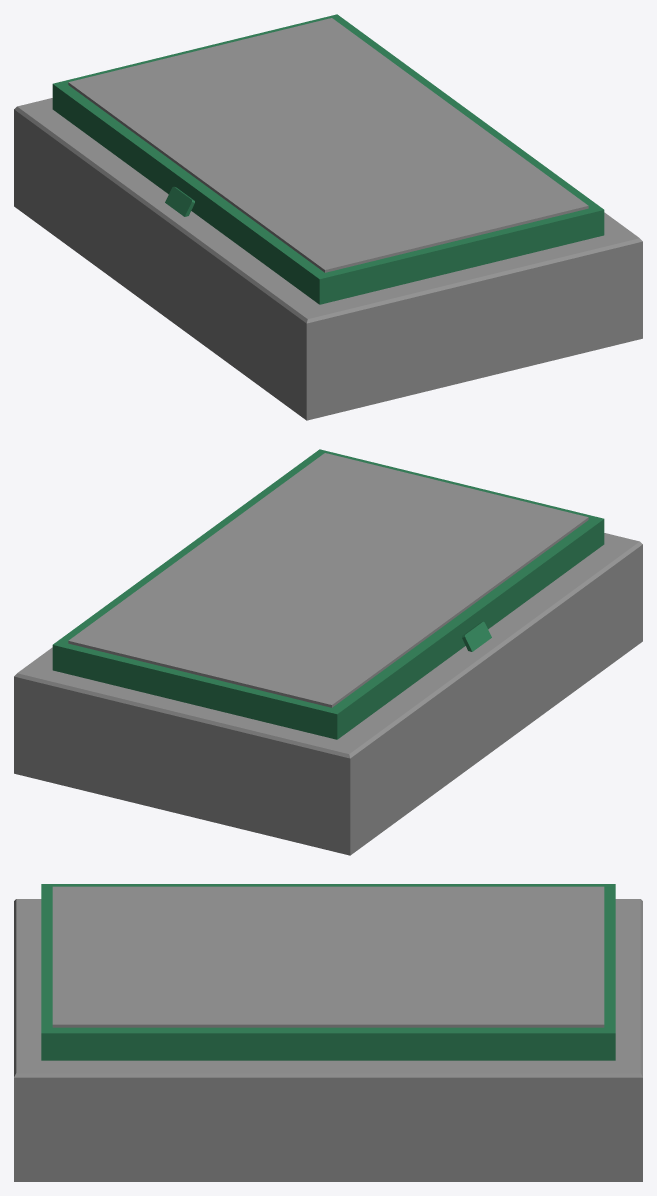
The model's file is Stand2.FBX.
The picture shows the model from 3 angles, top to bottom: view 1: azimuth 30°, elevation 25°; view 2: azimuth 150°, elevation 25°; view 3: azimuth 270°, elevation 25°; orthographic projection. The views are drawn at different scales.
Visible parts, largest first — view 1: Stand2; view 2: Stand2; view 3: Stand2.
Boxes of the visible parts, x1,y1,x2,y2 form: Stand2: (14, 14, 642, 420); Stand2: (14, 449, 642, 855); Stand2: (14, 884, 642, 1181).
Bounding box in the file's own units: 228 × 83.38 × 344.
